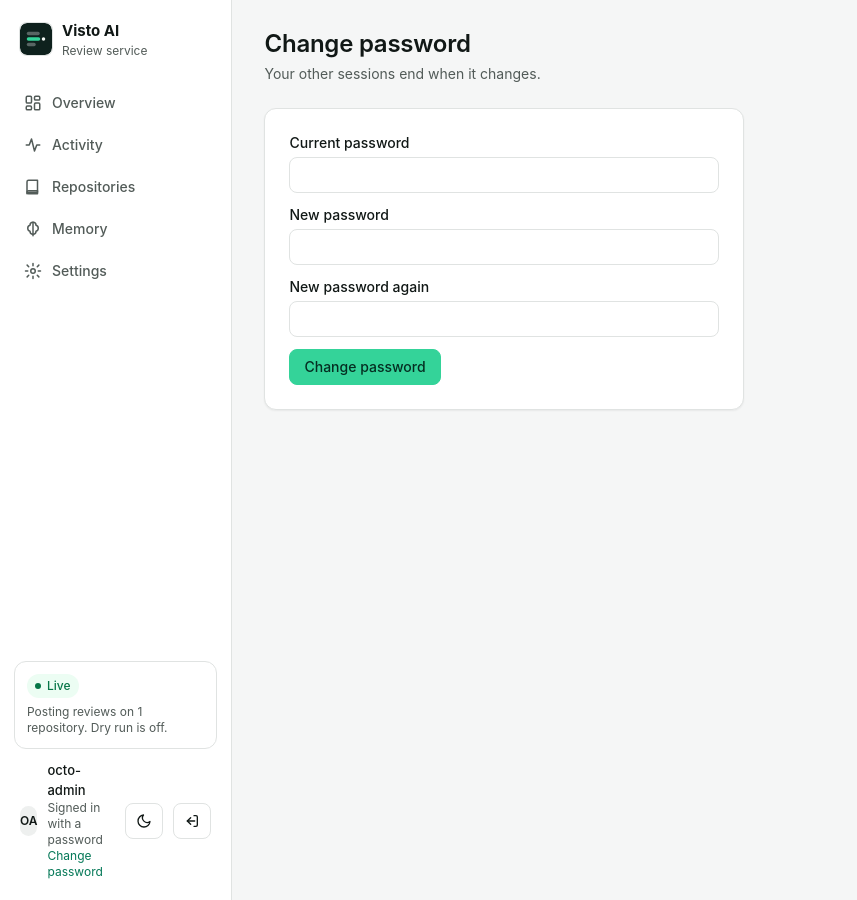
a change answered 401 shows the sign-in page
expect the heading "Change password" is shown: met, box 264,29 -> 471,58
In the password field labelled "Current password": [504, 175] box 290,157 -> 720,193, type "a long password of mine"
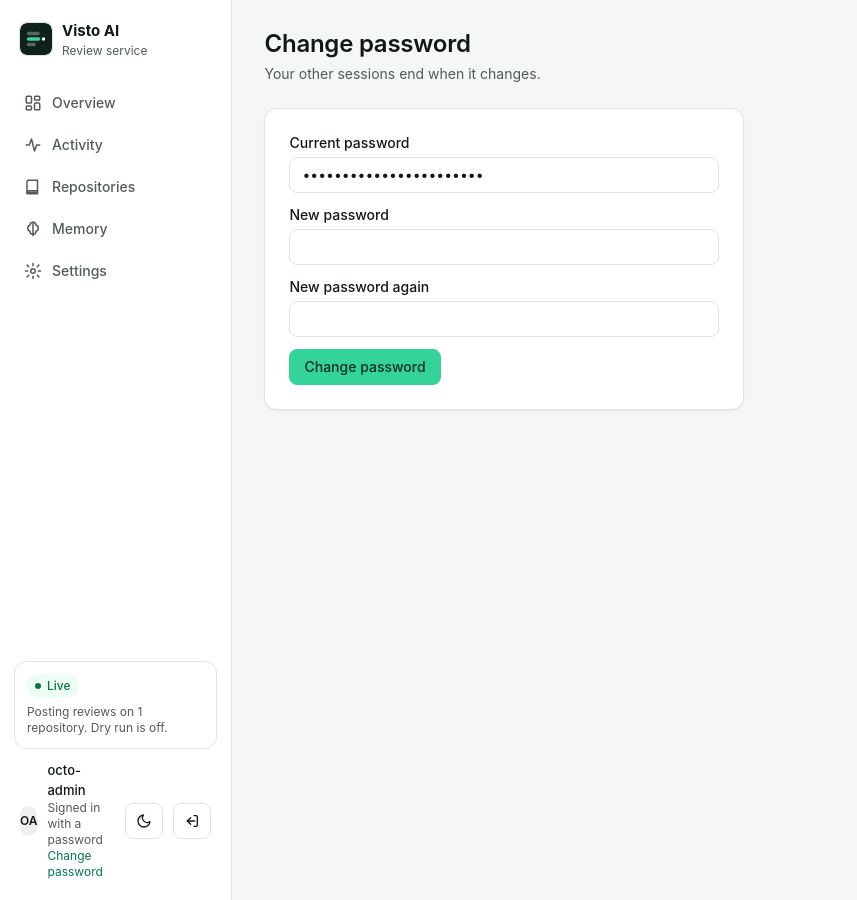
In the password field labelled "New password": [504, 247] box 290,229 -> 720,265, type "another long password"
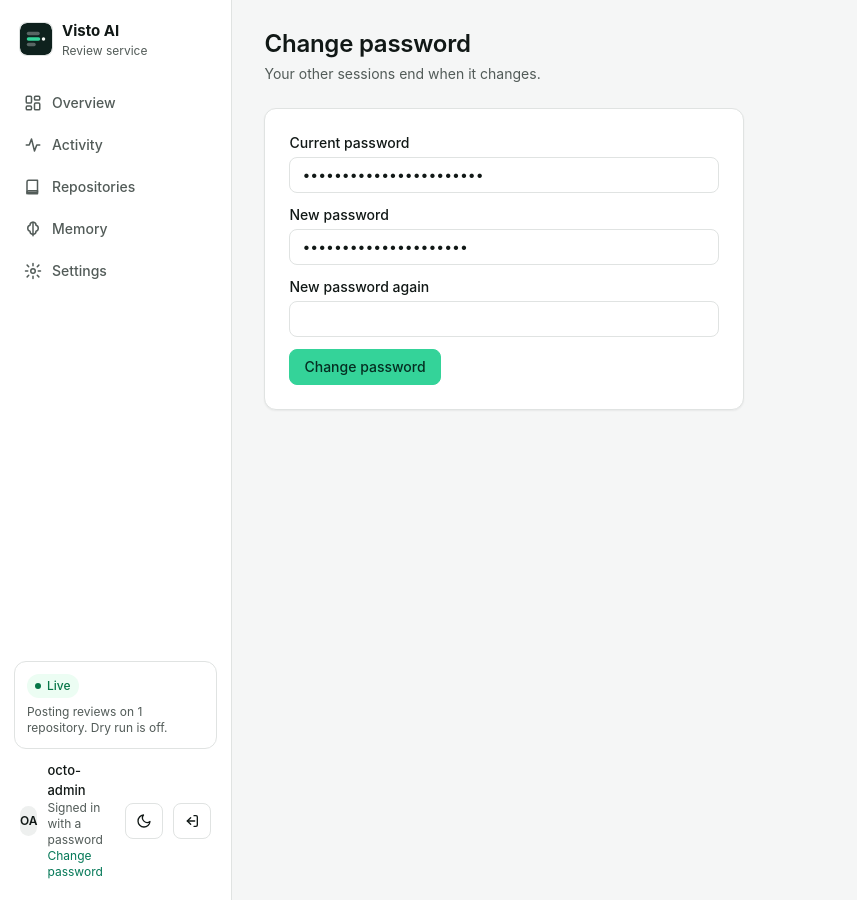
In the password field labelled "New password again": [504, 319] box 290,301 -> 720,337, type "another long password"
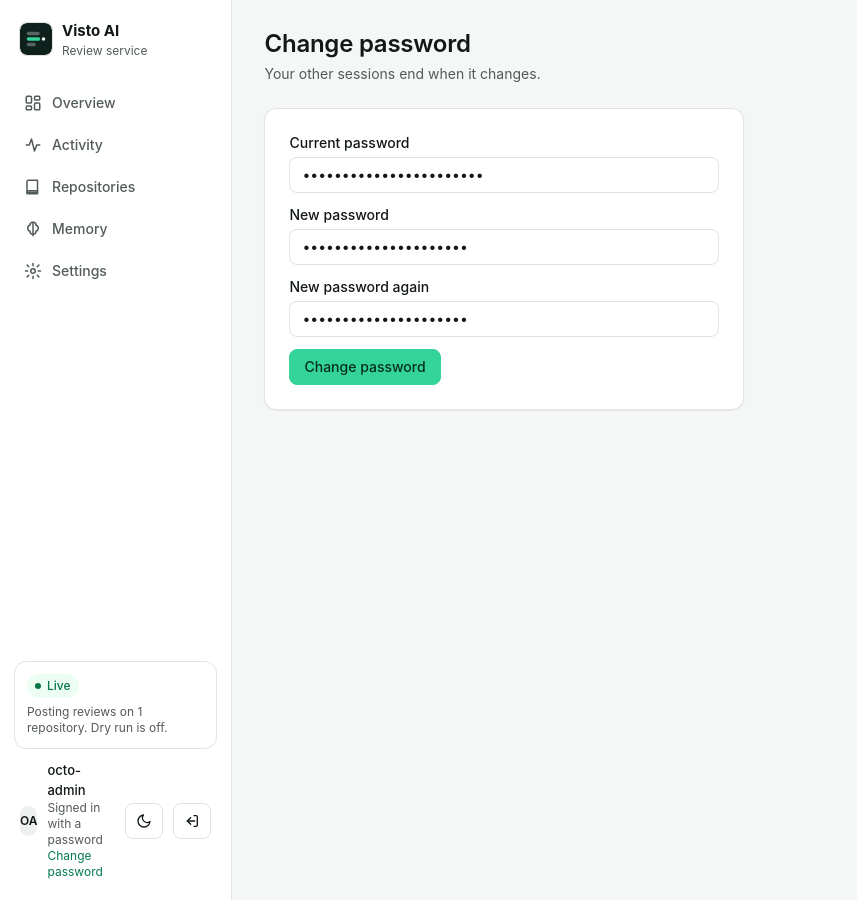
Click the button "Change password": [365, 367] box 290,349 -> 441,385
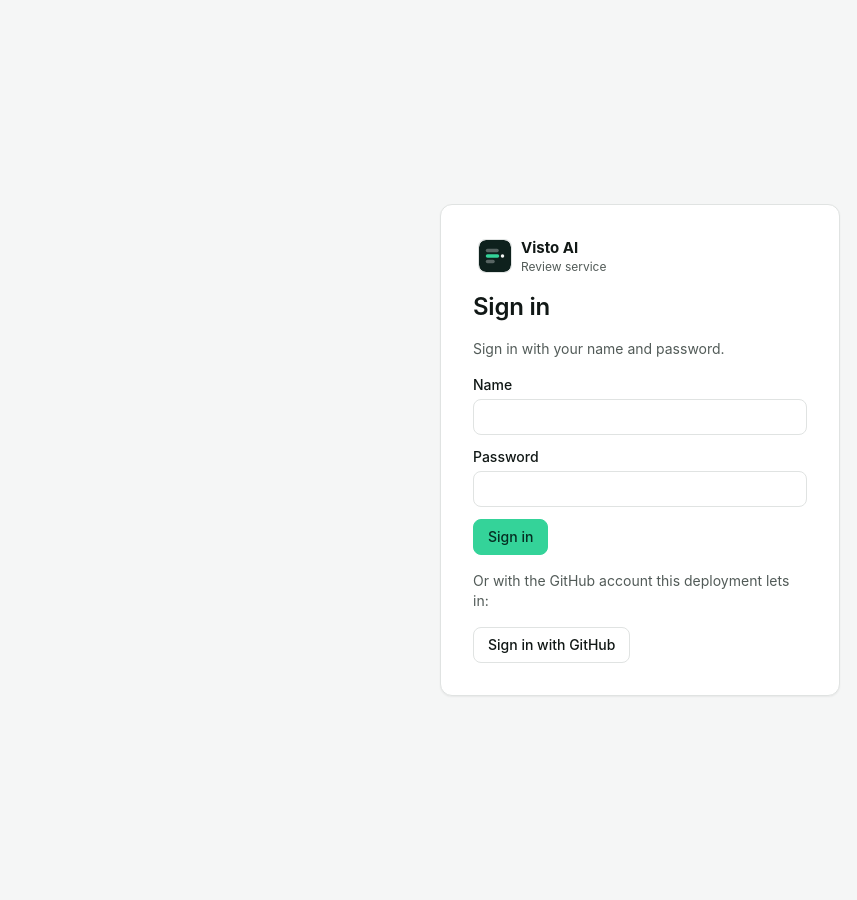
expect the heading "Sign in" is shown: met, box 473,292 -> 550,321
expect the navigation bar "Main" is gone: met
expect the link "Change password" is gone: met
